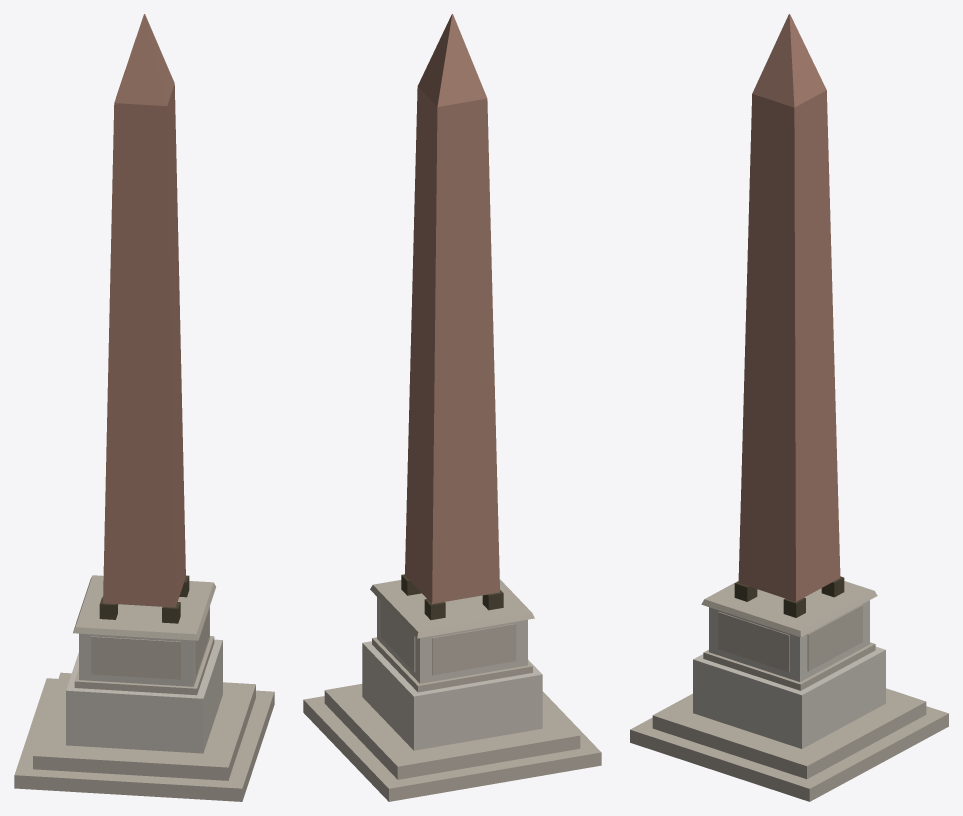
The model's file is dikilitas.glb.
The picture shows the model from 3 angles, left to right: view 1: azimuth 30°, elevation 25°; view 2: azimuth 150°, elevation 25°; view 3: azimuth 270°, elevation 25°; orthographic projection.
Visible parts, largest first — view 1: dikilitas; view 2: dikilitas; view 3: dikilitas.
Boxes of the visible parts, x1,y1,x2,y2 form: dikilitas: (14,14,274,801); dikilitas: (303,14,601,801); dikilitas: (630,14,948,801).
Size of the model in its own units: 9.93 by 24.76 by 9.93.
